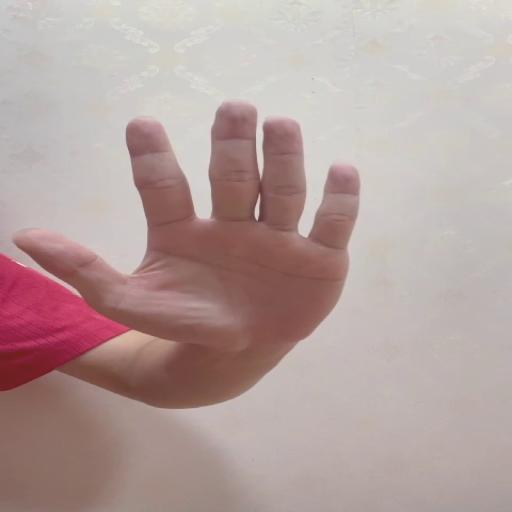open_palm: (10, 96, 366, 350)
